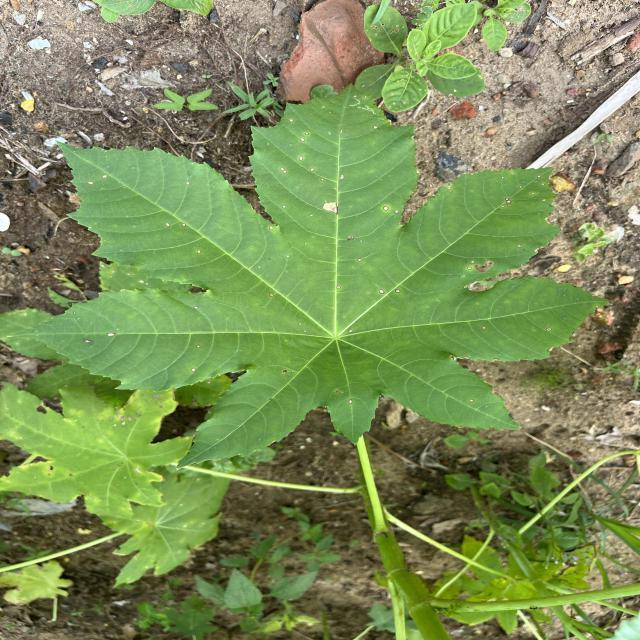Ricinus communis linn: (0, 80, 616, 473)
